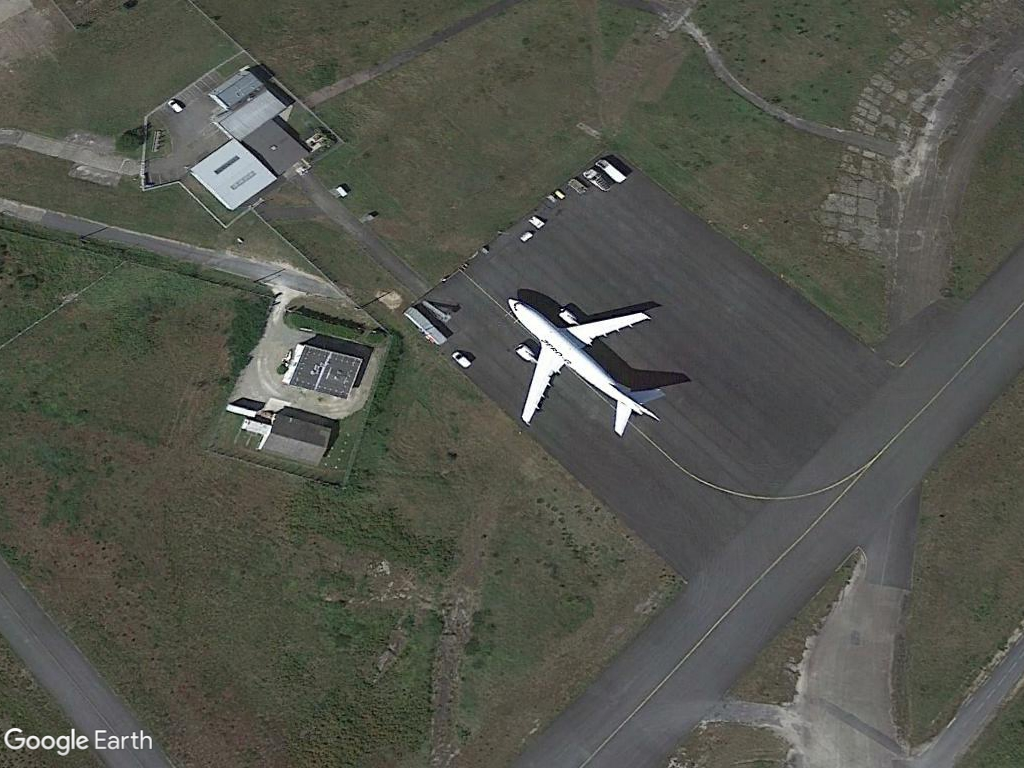airliner: (503, 289, 671, 437)
